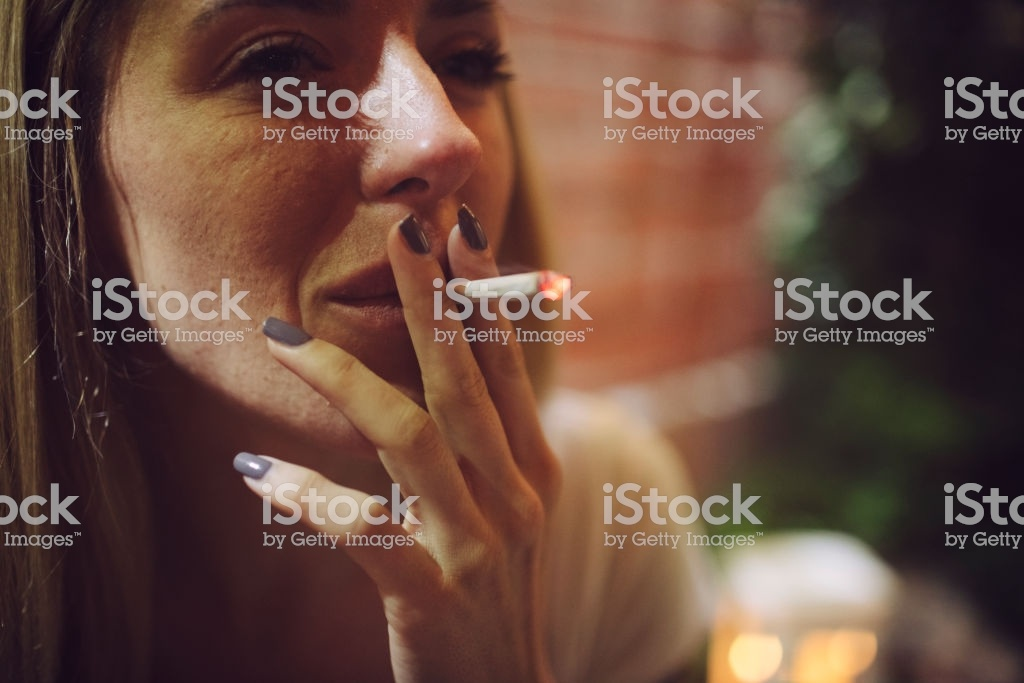sigaretta: (433, 275, 568, 301)
